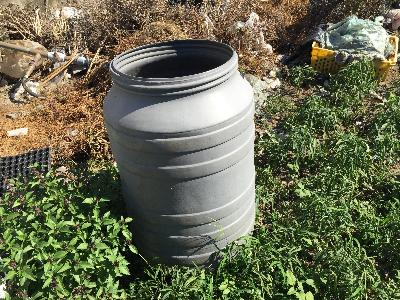bucket: (101, 36, 261, 270)
plastic_bag: (322, 15, 392, 51)
